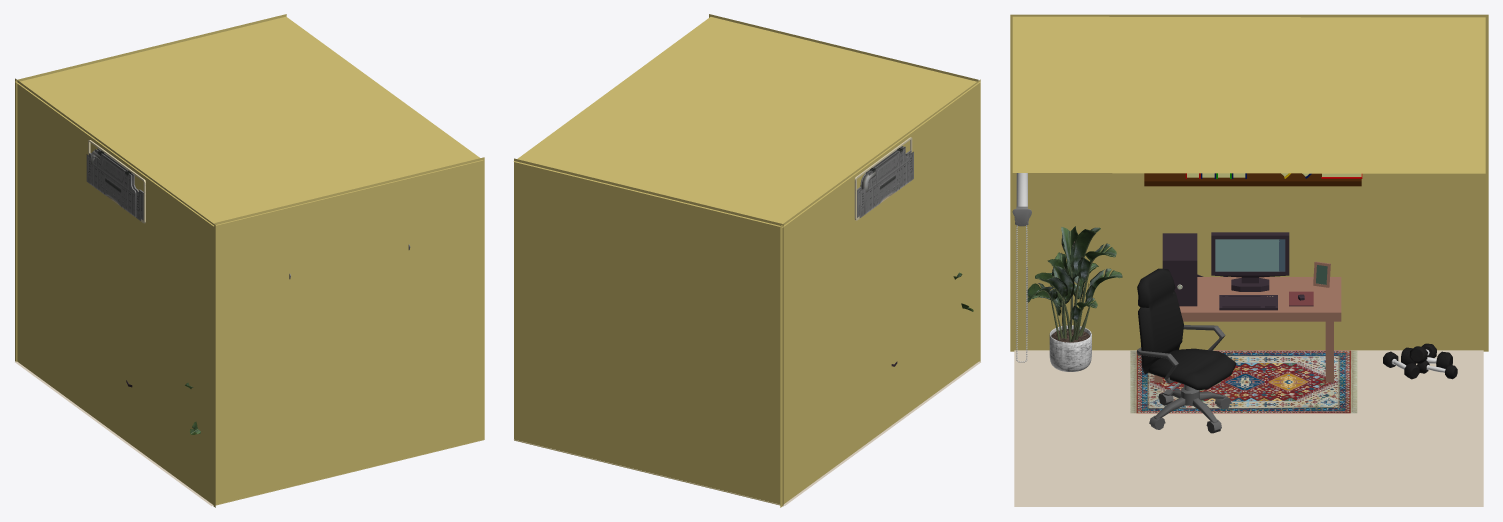
File: desk_pc_room.glb
The picture shows the model from 3 angles, left to right: view 1: azimuth 30°, elevation 25°; view 2: azimuth 150°, elevation 25°; view 3: azimuth 270°, elevation 25°; orthographic projection. The views are drawn at different scales.
Parts seen in each view (by area): view 1: Room_Right_Wall.001, Room_Right_Wall.002, Room_Right_Wall.003, Object_14, Room_Right_Wall, Plane; view 2: Room_Right_Wall, Room_Right_Wall.002, Room_Right_Wall.003, Object_14, Plane, Room_Right_Wall.001; view 3: Room_Right_Wall.003, Room_Right_Wall.002, Plane, Cube_0, Object_2.001, Computer Chair, G-AUL11_1, Cube_Material.001_0, GymWeights, G-AUL10_0, Object_4.002.
Part boxes in pixels (x1=…): Room_Right_Wall.001: x1=214, y1=157, x2=484, y2=505; Room_Right_Wall.002: x1=15, y1=78, x2=215, y2=507; Room_Right_Wall.003: x1=15, y1=16, x2=483, y2=226; Object_14: x1=86, y1=149, x2=140, y2=220; Room_Right_Wall: x1=16, y1=14, x2=286, y2=361; Plane: x1=15, y1=361, x2=386, y2=506; Room_Right_Wall: x1=514, y1=158, x2=783, y2=506; Room_Right_Wall.002: x1=780, y1=79, x2=980, y2=507; Room_Right_Wall.003: x1=513, y1=17, x2=980, y2=227; Object_14: x1=859, y1=146, x2=913, y2=218; Plane: x1=513, y1=361, x2=980, y2=505; Room_Right_Wall.001: x1=709, y1=14, x2=978, y2=81; Room_Right_Wall.003: x1=1012, y1=16, x2=1485, y2=173; Room_Right_Wall.002: x1=1010, y1=14, x2=1488, y2=351; Plane: x1=1014, y1=350, x2=1483, y2=506; Cube_0: x1=1154, y1=232, x2=1341, y2=382; Object_2.001: x1=1130, y1=350, x2=1357, y2=413; Computer Chair: x1=1137, y1=268, x2=1235, y2=433; G-AUL11_1: x1=1027, y1=226, x2=1122, y2=341; Cube_Material.001_0: x1=1144, y1=173, x2=1361, y2=186; GymWeights: x1=1383, y1=343, x2=1457, y2=379; G-AUL10_0: x1=1049, y1=325, x2=1091, y2=371; Object_4.002: x1=1016, y1=173, x2=1027, y2=362.
Size of what is drawn, in the model's own units: 10.59 by 10.31 by 13.18.
Materials: 31 (24 with a texture image).
